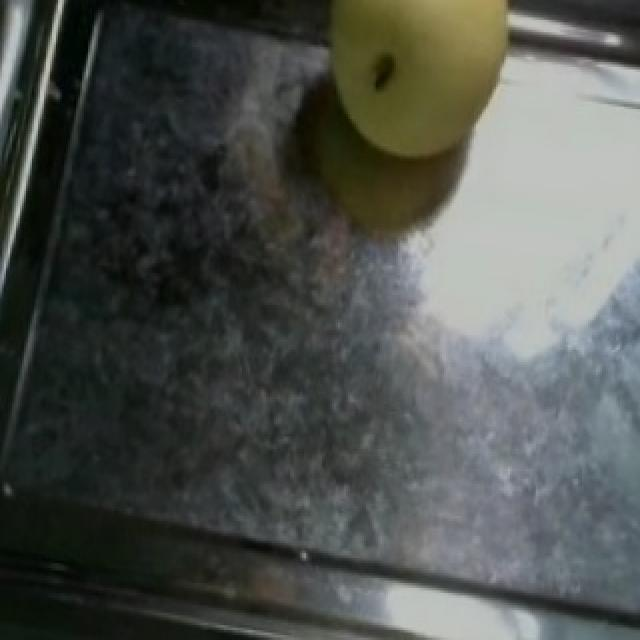Fruit: (294, 0, 540, 186)
